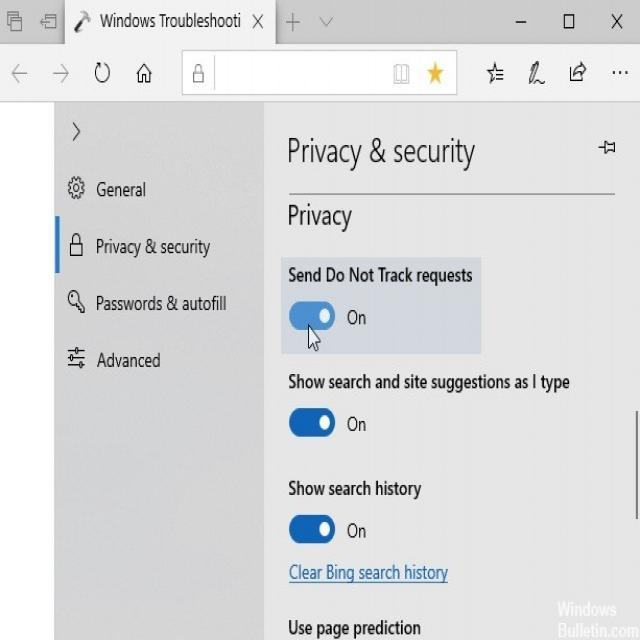button: (58, 214, 264, 272), (56, 331, 263, 388), (56, 274, 263, 328), (55, 170, 264, 216), (65, 0, 275, 43), (592, 0, 640, 43), (498, 0, 545, 43), (547, 0, 591, 42), (58, 105, 92, 157), (517, 52, 553, 92), (309, 1, 343, 43), (276, 0, 308, 43), (32, 0, 64, 43), (561, 53, 593, 92), (0, 0, 29, 43), (130, 53, 161, 92), (592, 128, 624, 164), (88, 53, 119, 90), (480, 53, 511, 90), (604, 52, 634, 90), (186, 54, 211, 92), (7, 54, 34, 89), (48, 54, 75, 89), (388, 58, 413, 90), (425, 59, 446, 88), (250, 9, 268, 35)
field: (182, 50, 457, 95), (289, 407, 335, 439), (290, 514, 335, 545), (290, 299, 334, 330)
